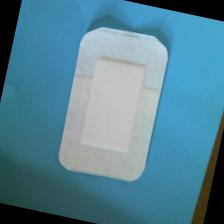Dressing: (53, 19, 176, 189)
